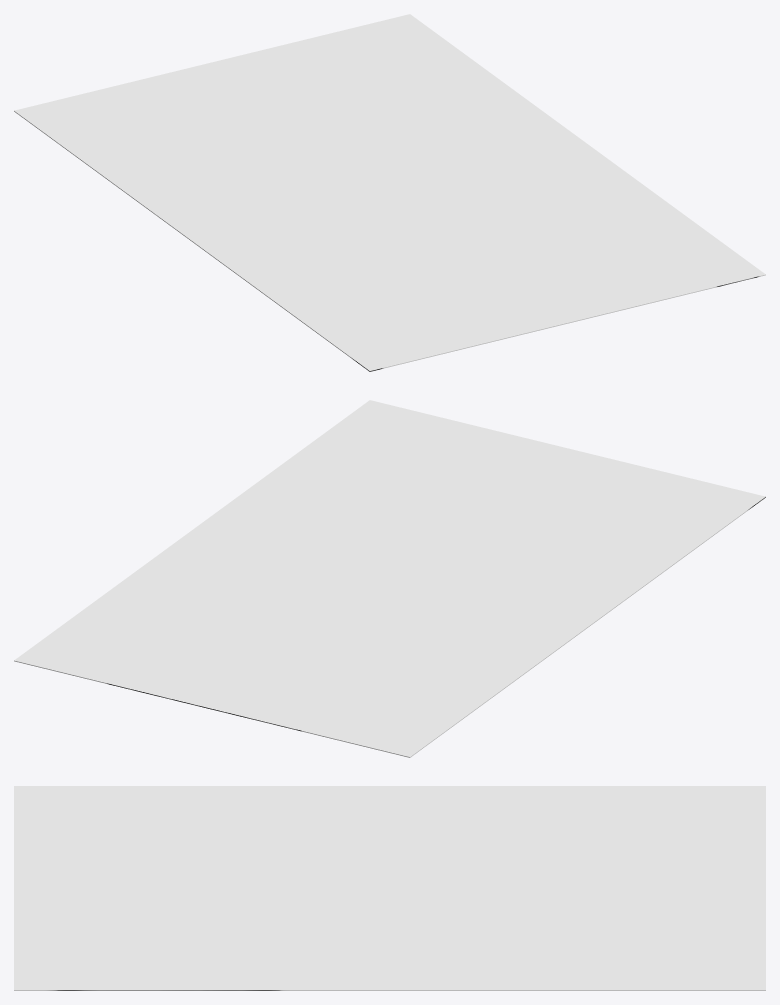
The model's file is Level 122 roll mountain.fbx.
The picture shows the model from 3 angles, top to bottom: view 1: azimuth 30°, elevation 25°; view 2: azimuth 150°, elevation 25°; view 3: azimuth 270°, elevation 25°; orthographic projection. The views are drawn at different scales.
Visible parts, largest first — view 1: Blend; view 2: Blend; view 3: Blend.
Boxes of the visible parts, <box> form: Blend: <box>14,14,765,371</box>; Blend: <box>14,400,765,757</box>; Blend: <box>14,786,765,990</box>.
Size of what is drawn, in the model's own units: 553 by 1 by 860.
